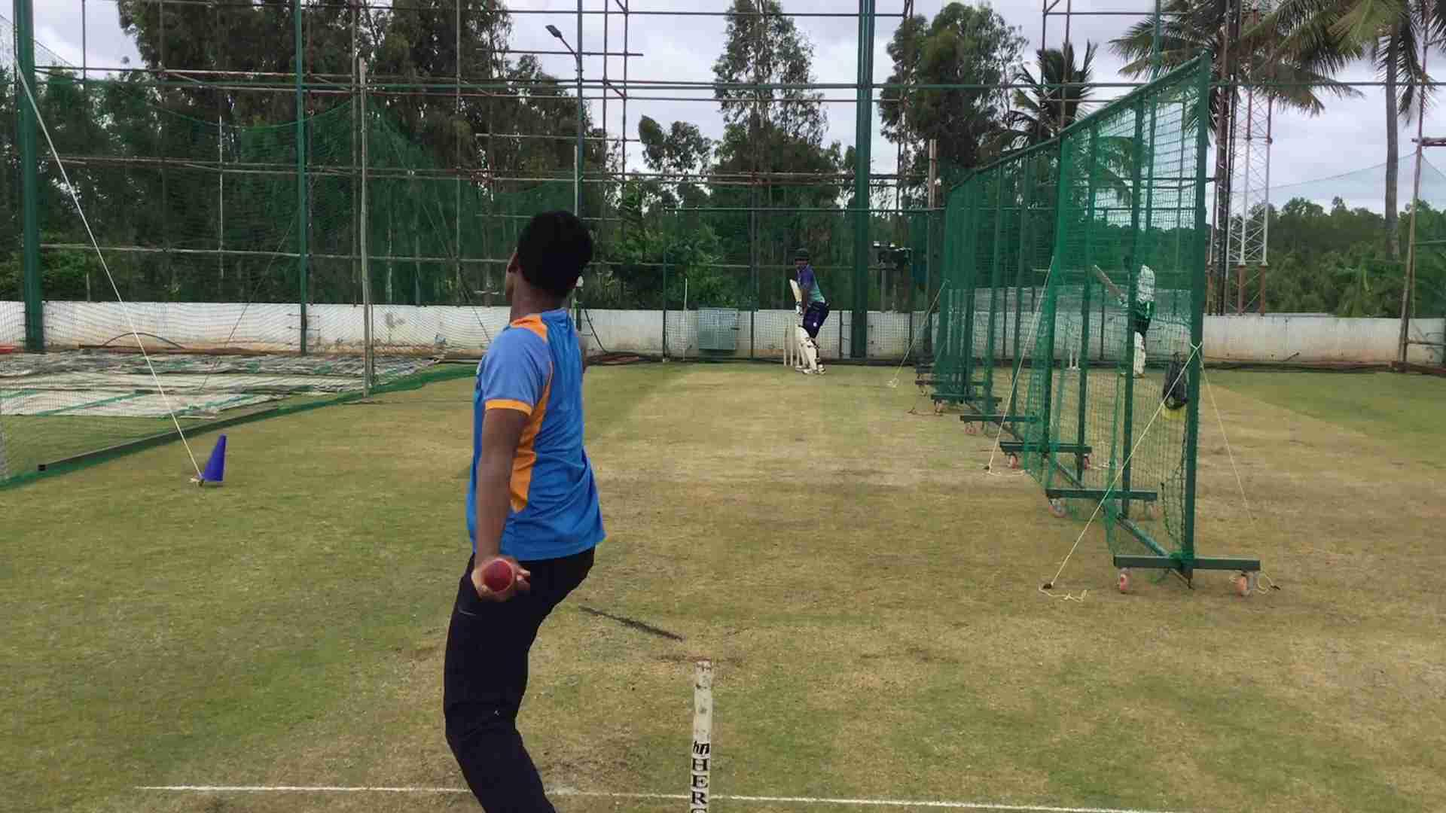batsman: (784, 242, 832, 375)
